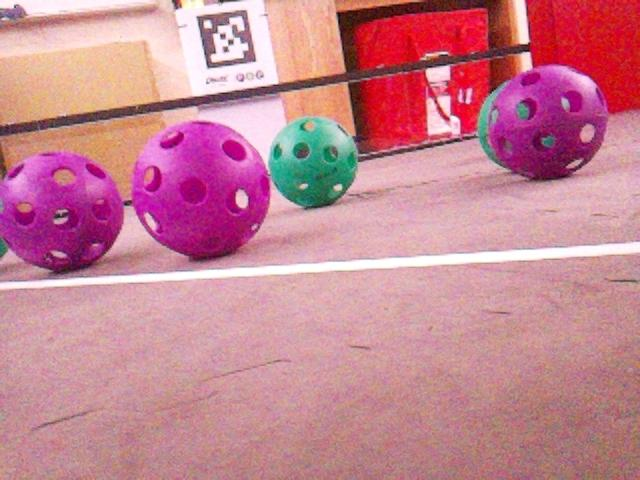Green: (267, 114, 358, 206), (479, 81, 509, 176)
Purple: (131, 120, 270, 257), (0, 151, 124, 271), (486, 63, 607, 179)
